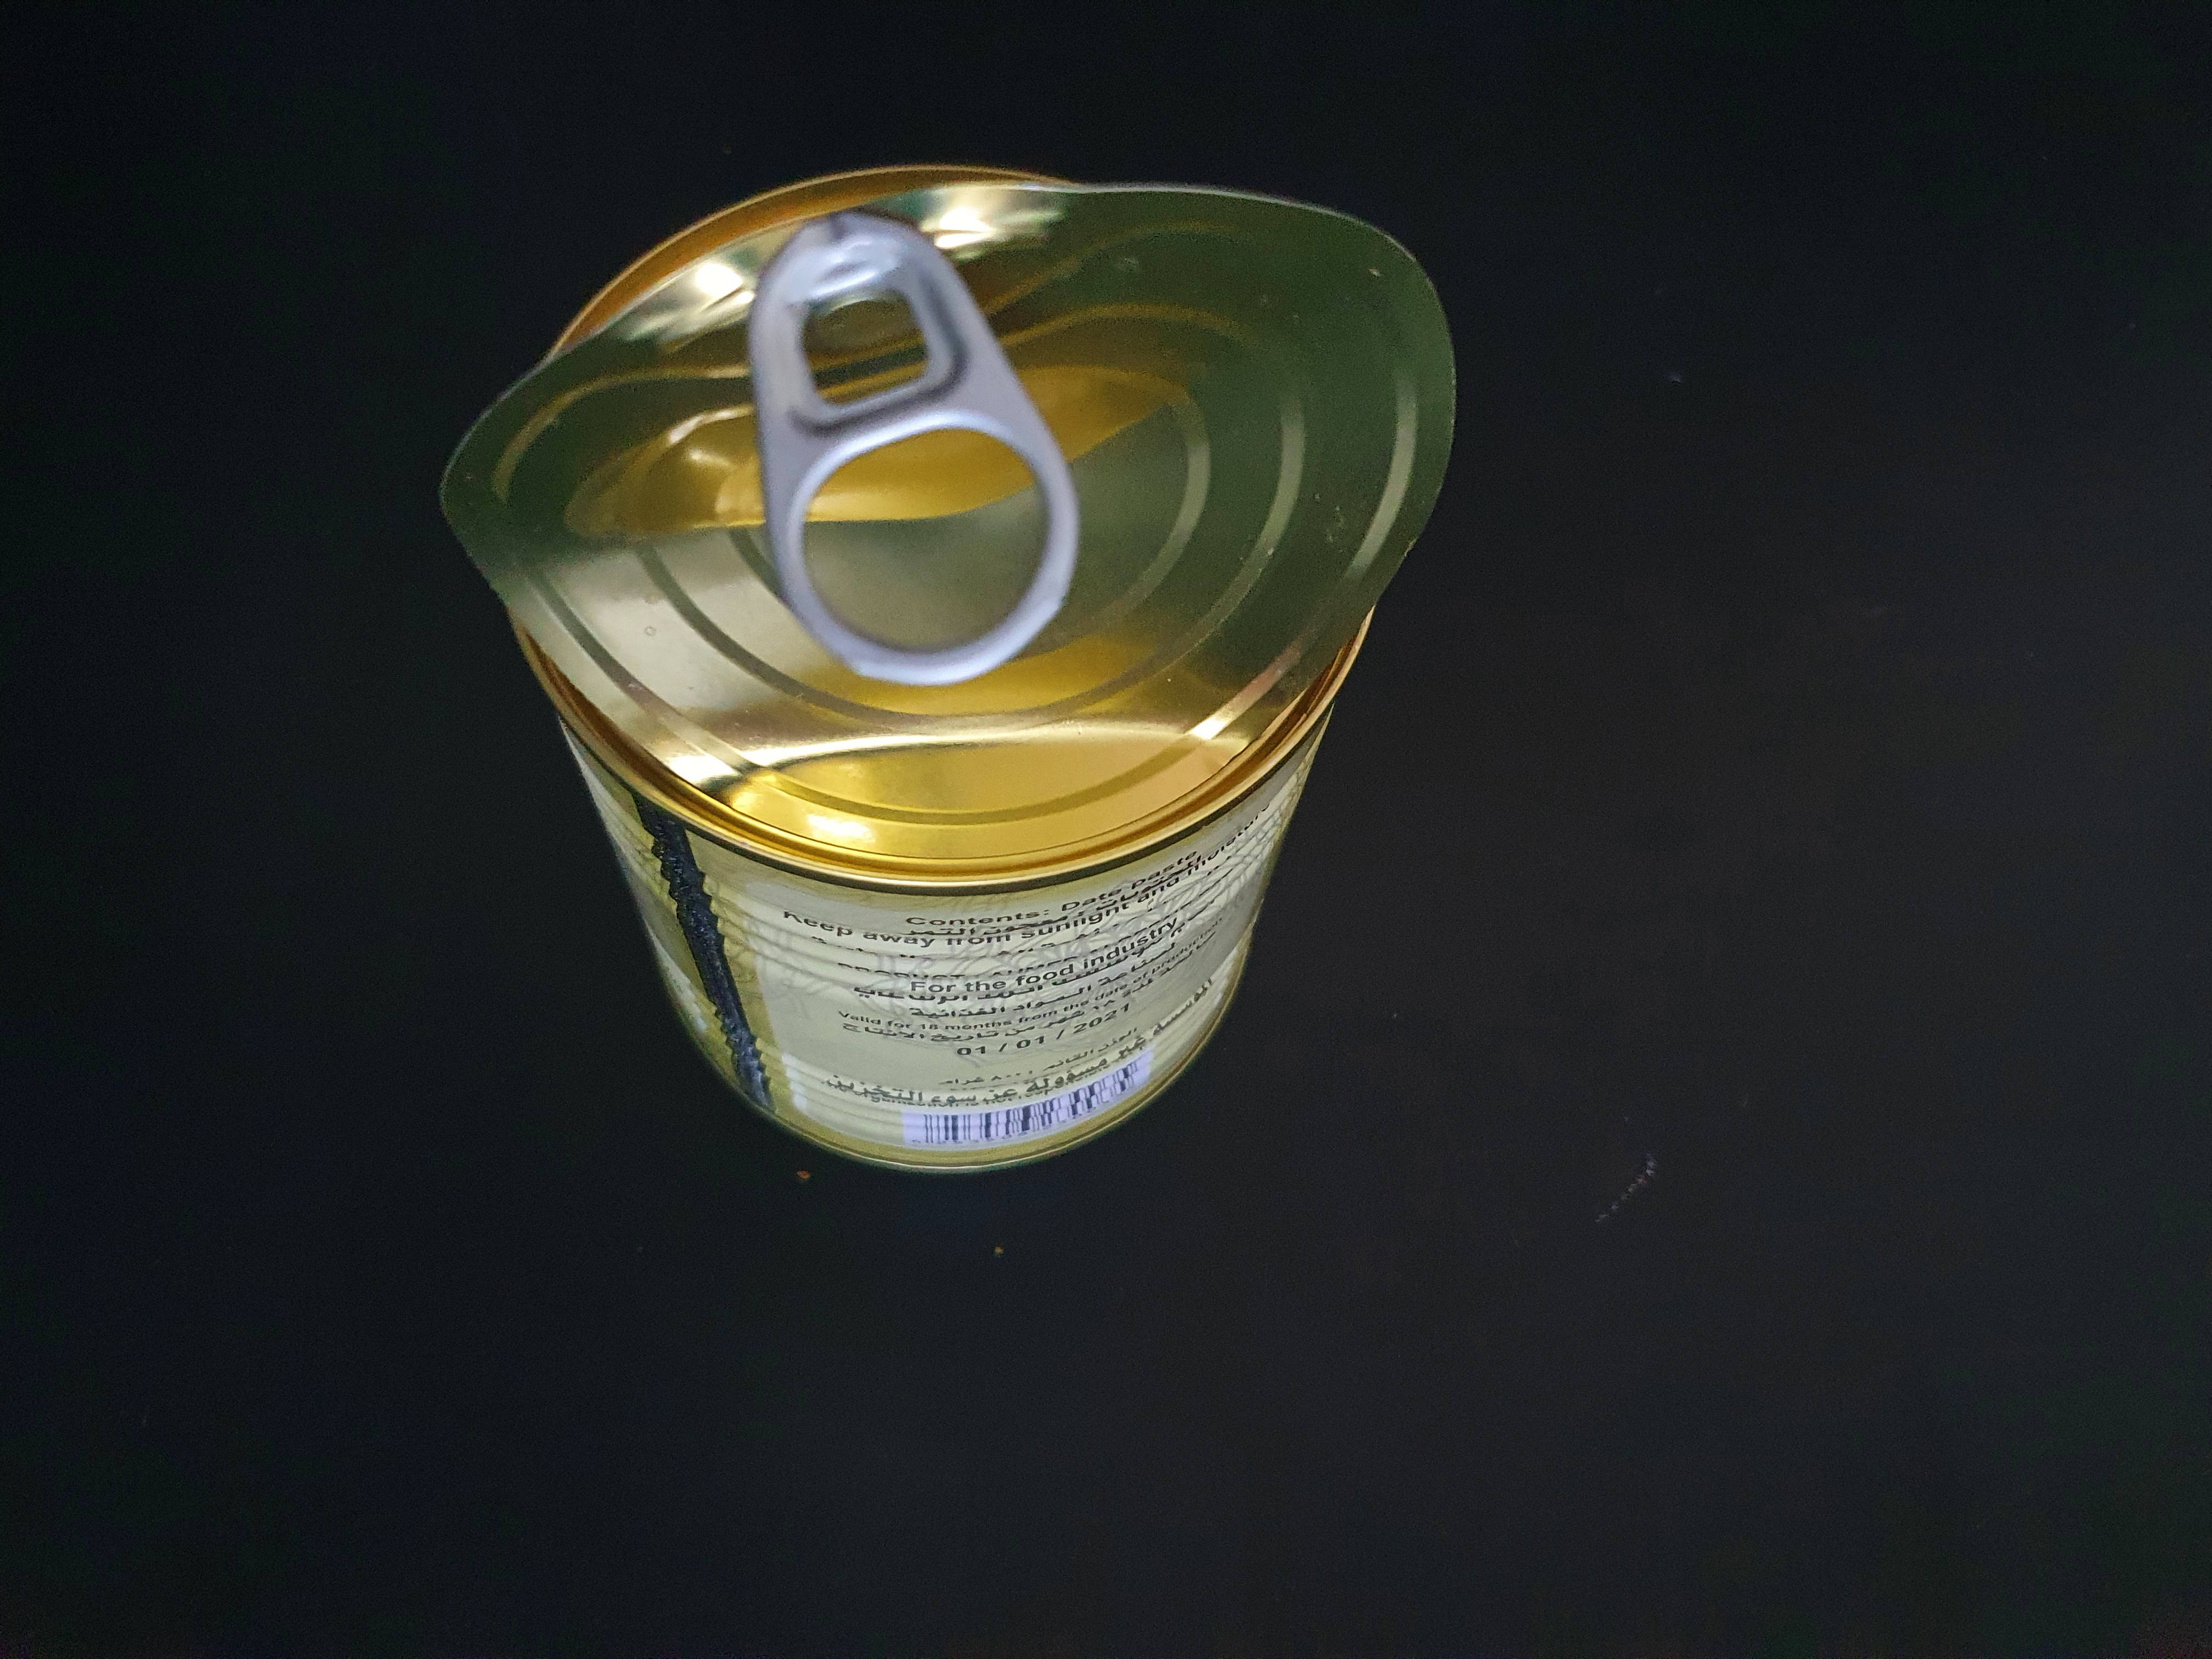metal: (413, 131, 1515, 1244)
